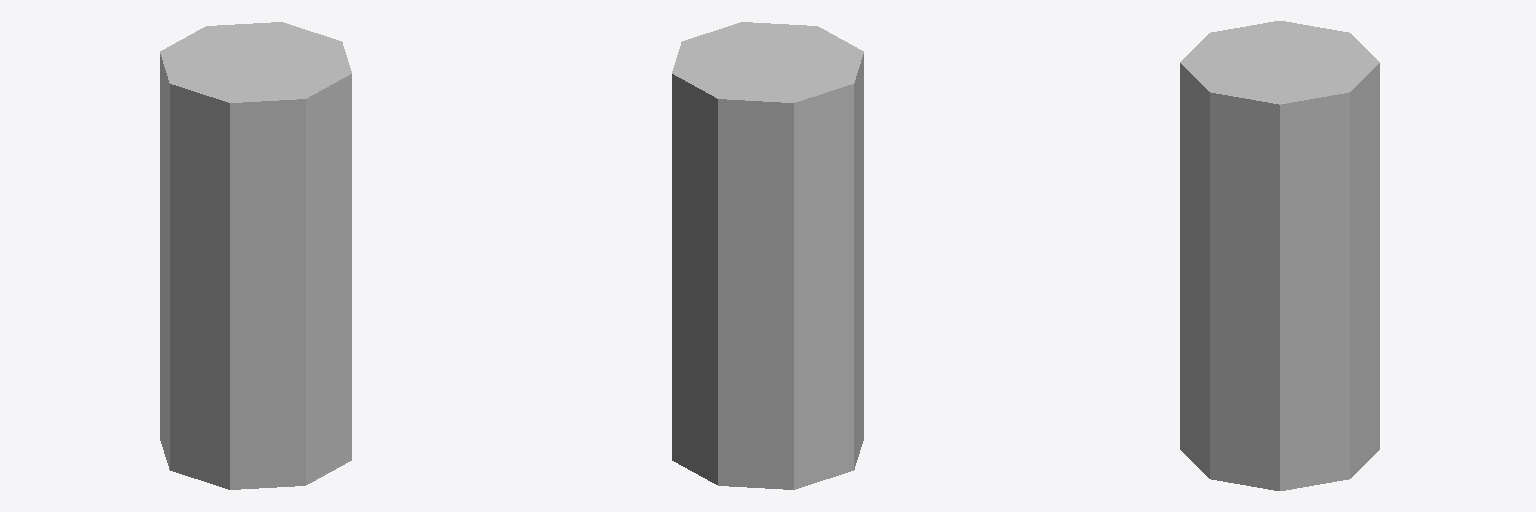
Rendered from CandleB.obj.
3 renders of one model, left to right at view 1: azimuth 30°, elevation 25°; view 2: azimuth 150°, elevation 25°; view 3: azimuth 270°, elevation 25°, orthographic.
Parts seen in each view (by area): view 1: CandleB; view 2: CandleB; view 3: CandleB.
Boxes of the visible parts, box(x1,y1,x2,y2) form: CandleB: box(160, 22, 351, 489); CandleB: box(672, 22, 863, 489); CandleB: box(1180, 21, 1379, 490).
Size of the model in its own units: 0.07 by 0.15 by 0.07.